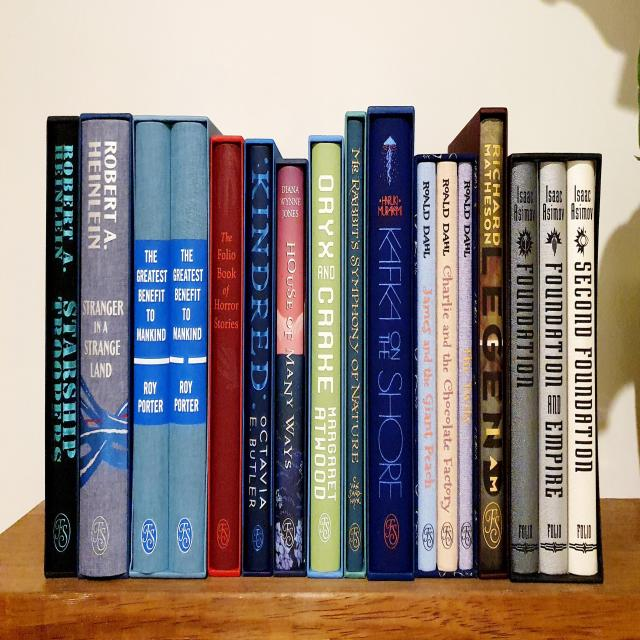book: (368, 108, 414, 580), (81, 117, 127, 575), (170, 123, 206, 574), (134, 122, 168, 572), (46, 117, 78, 576), (312, 143, 340, 572), (539, 162, 568, 575), (276, 168, 305, 570), (568, 161, 596, 574), (512, 164, 539, 575), (480, 113, 504, 571), (213, 142, 238, 570), (438, 163, 458, 572), (417, 164, 436, 572), (347, 120, 362, 573), (460, 162, 473, 570)
